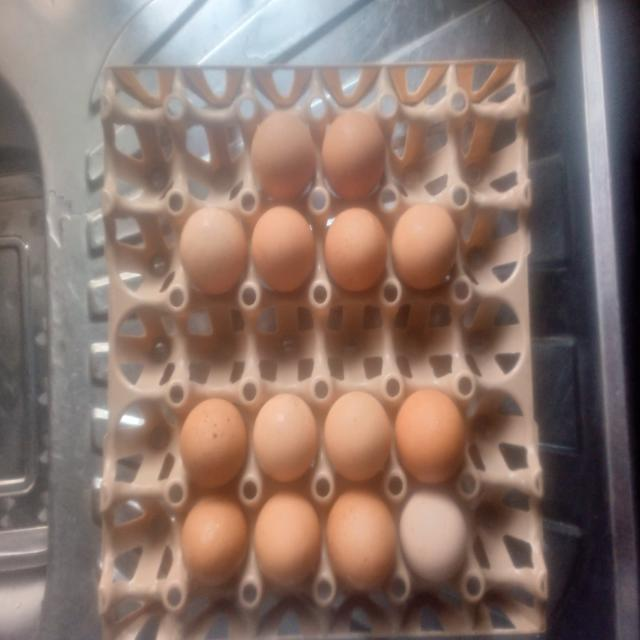Eggs: (325, 487, 400, 603), (172, 392, 250, 487), (178, 496, 247, 602), (176, 201, 250, 297), (256, 491, 323, 595), (402, 488, 470, 587), (391, 201, 460, 297), (325, 391, 393, 486), (397, 392, 469, 478), (254, 390, 319, 484), (254, 204, 318, 298), (322, 201, 387, 290), (322, 110, 389, 194), (252, 114, 318, 195)
